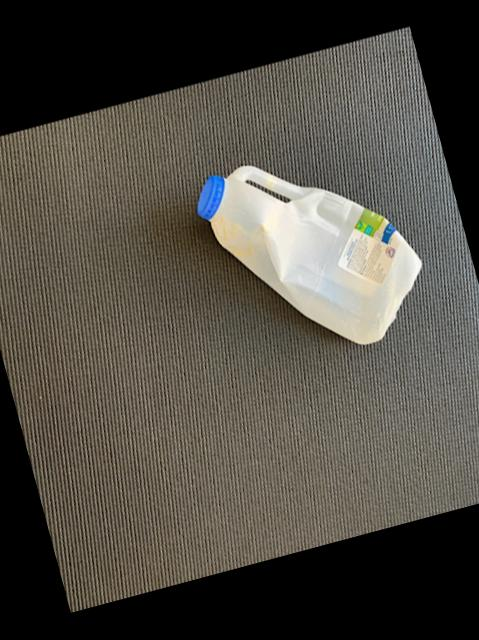plastic: (197, 164, 421, 342)
